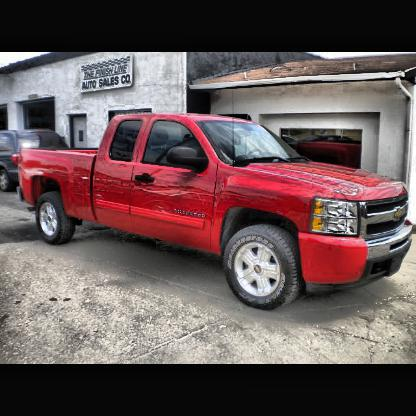Chevrolet Silverado 1500 Extended Cab 2012: (18, 115, 415, 311)
